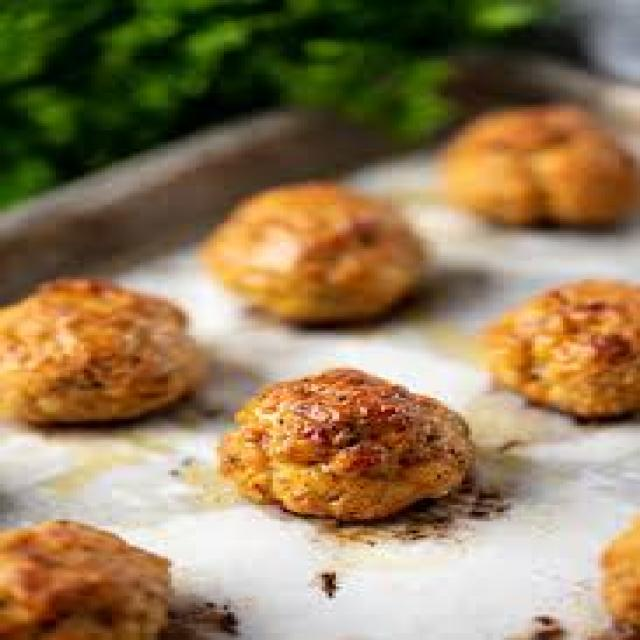meatball: (223, 359, 518, 526), (0, 272, 213, 435), (469, 280, 640, 426)
